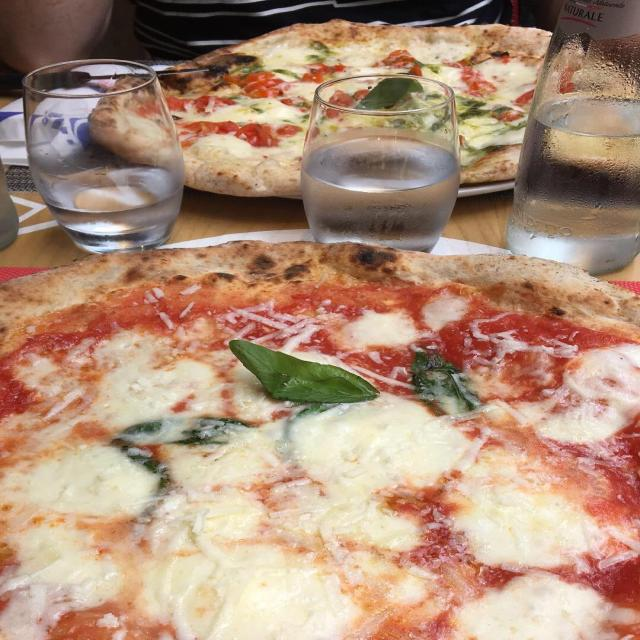basil: (226, 336, 384, 410), (108, 416, 268, 465), (398, 344, 478, 417)
pizza: (0, 241, 640, 640), (86, 20, 549, 199)
tomatoes: (238, 124, 272, 148), (194, 95, 237, 112), (186, 122, 221, 137), (246, 89, 283, 102), (247, 71, 274, 85), (276, 124, 302, 138), (243, 80, 290, 87), (305, 73, 323, 84)
